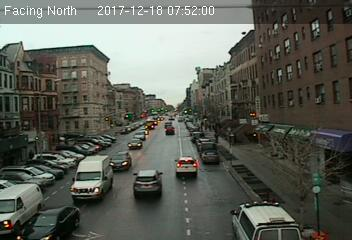car: (9, 202, 79, 240), (69, 154, 113, 203), (132, 170, 166, 198), (174, 155, 199, 179), (109, 152, 133, 172), (202, 151, 218, 163), (127, 139, 144, 150)
police: (229, 197, 302, 240)
